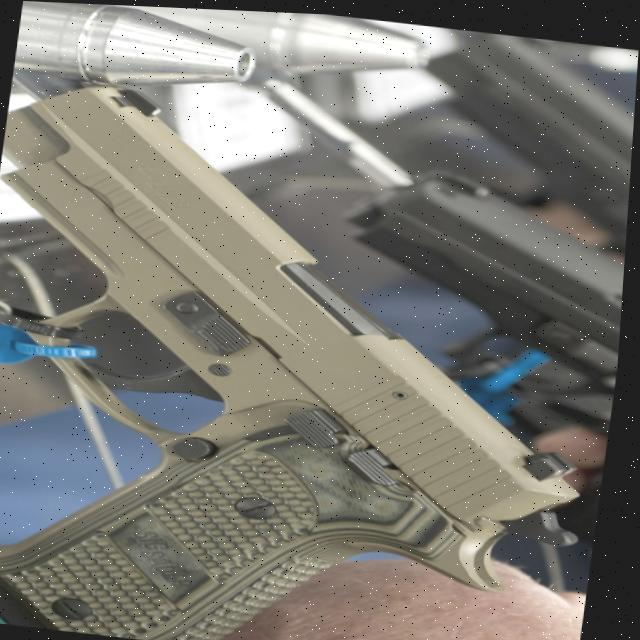pistol: (0, 71, 636, 640), (316, 152, 633, 450), (396, 20, 640, 253)
